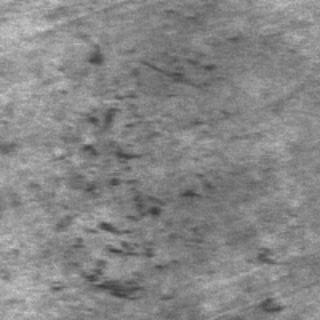rolled pit: (48, 40, 195, 308)
